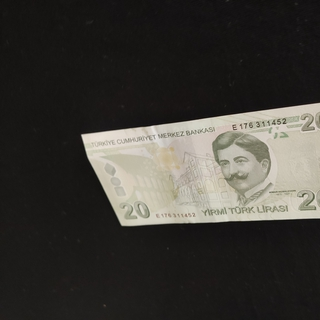20TLBack: (80, 100, 320, 227)
